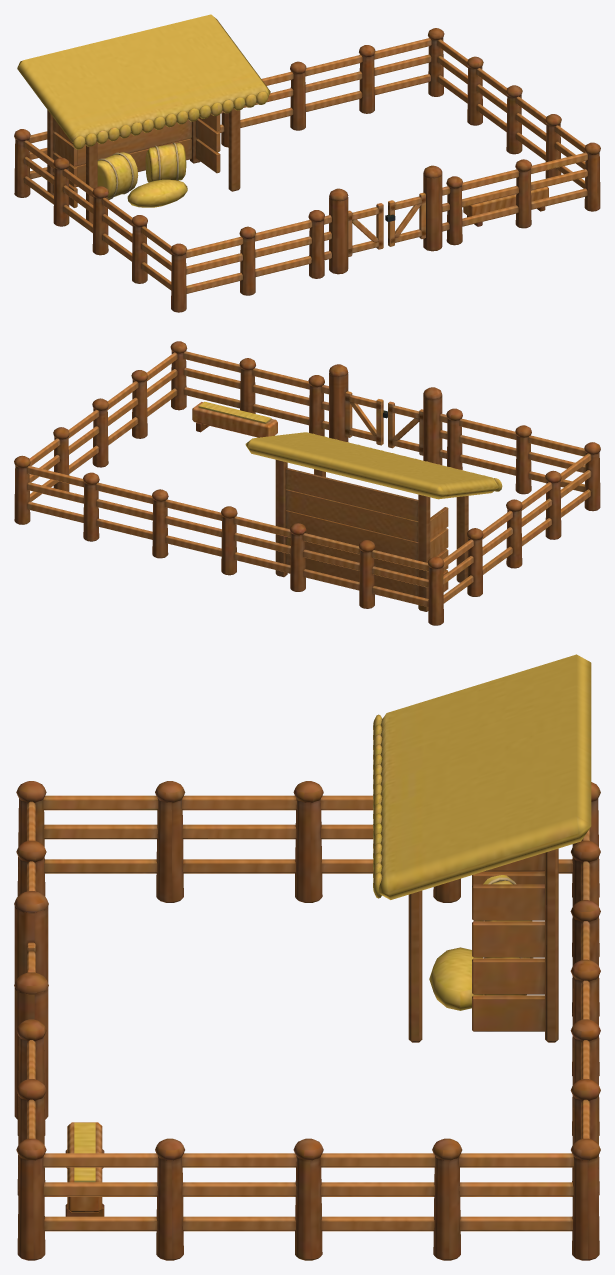
File: zebu_pasture.glb
The picture shows the model from 3 angles, top to bottom: view 1: azimuth 30°, elevation 25°; view 2: azimuth 150°, elevation 25°; view 3: azimuth 270°, elevation 25°; orthographic projection. The views are drawn at different scales.
Visible parts, largest first — view 1: zebu_pasture, gate1, gate0; view 2: zebu_pasture, gate1, gate0; view 3: zebu_pasture.
Boxes of the visible parts, x1,y1,x2,y2 form: zebu_pasture: [14, 14, 600, 312]; gate1: [385, 192, 425, 246]; gate0: [348, 203, 383, 256]; zebu_pasture: [14, 341, 600, 625]; gate1: [345, 391, 387, 445]; gate0: [388, 401, 423, 455]; zebu_pasture: [14, 654, 600, 1260].
Size of the model in its own units: 3 by 0.9714 by 2.01.
Materials: 1 (1 with a texture image).
